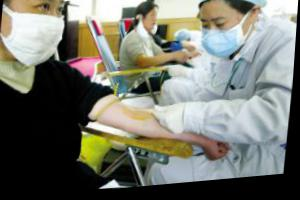OK: (1, 1, 70, 68), (197, 14, 249, 66)
WRONG: (138, 13, 159, 41)
